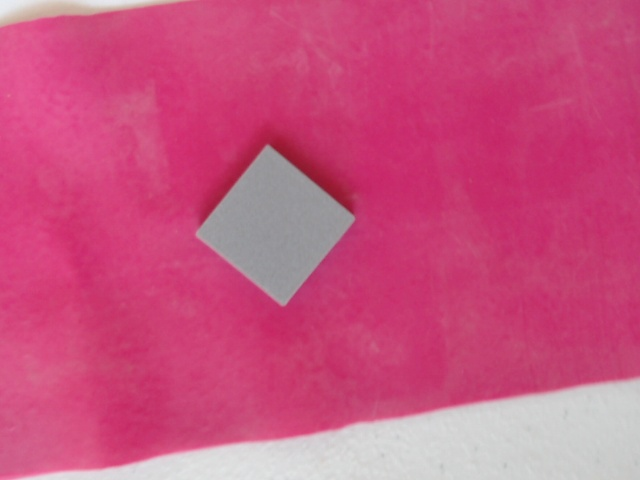Defective: (191, 141, 360, 314)
